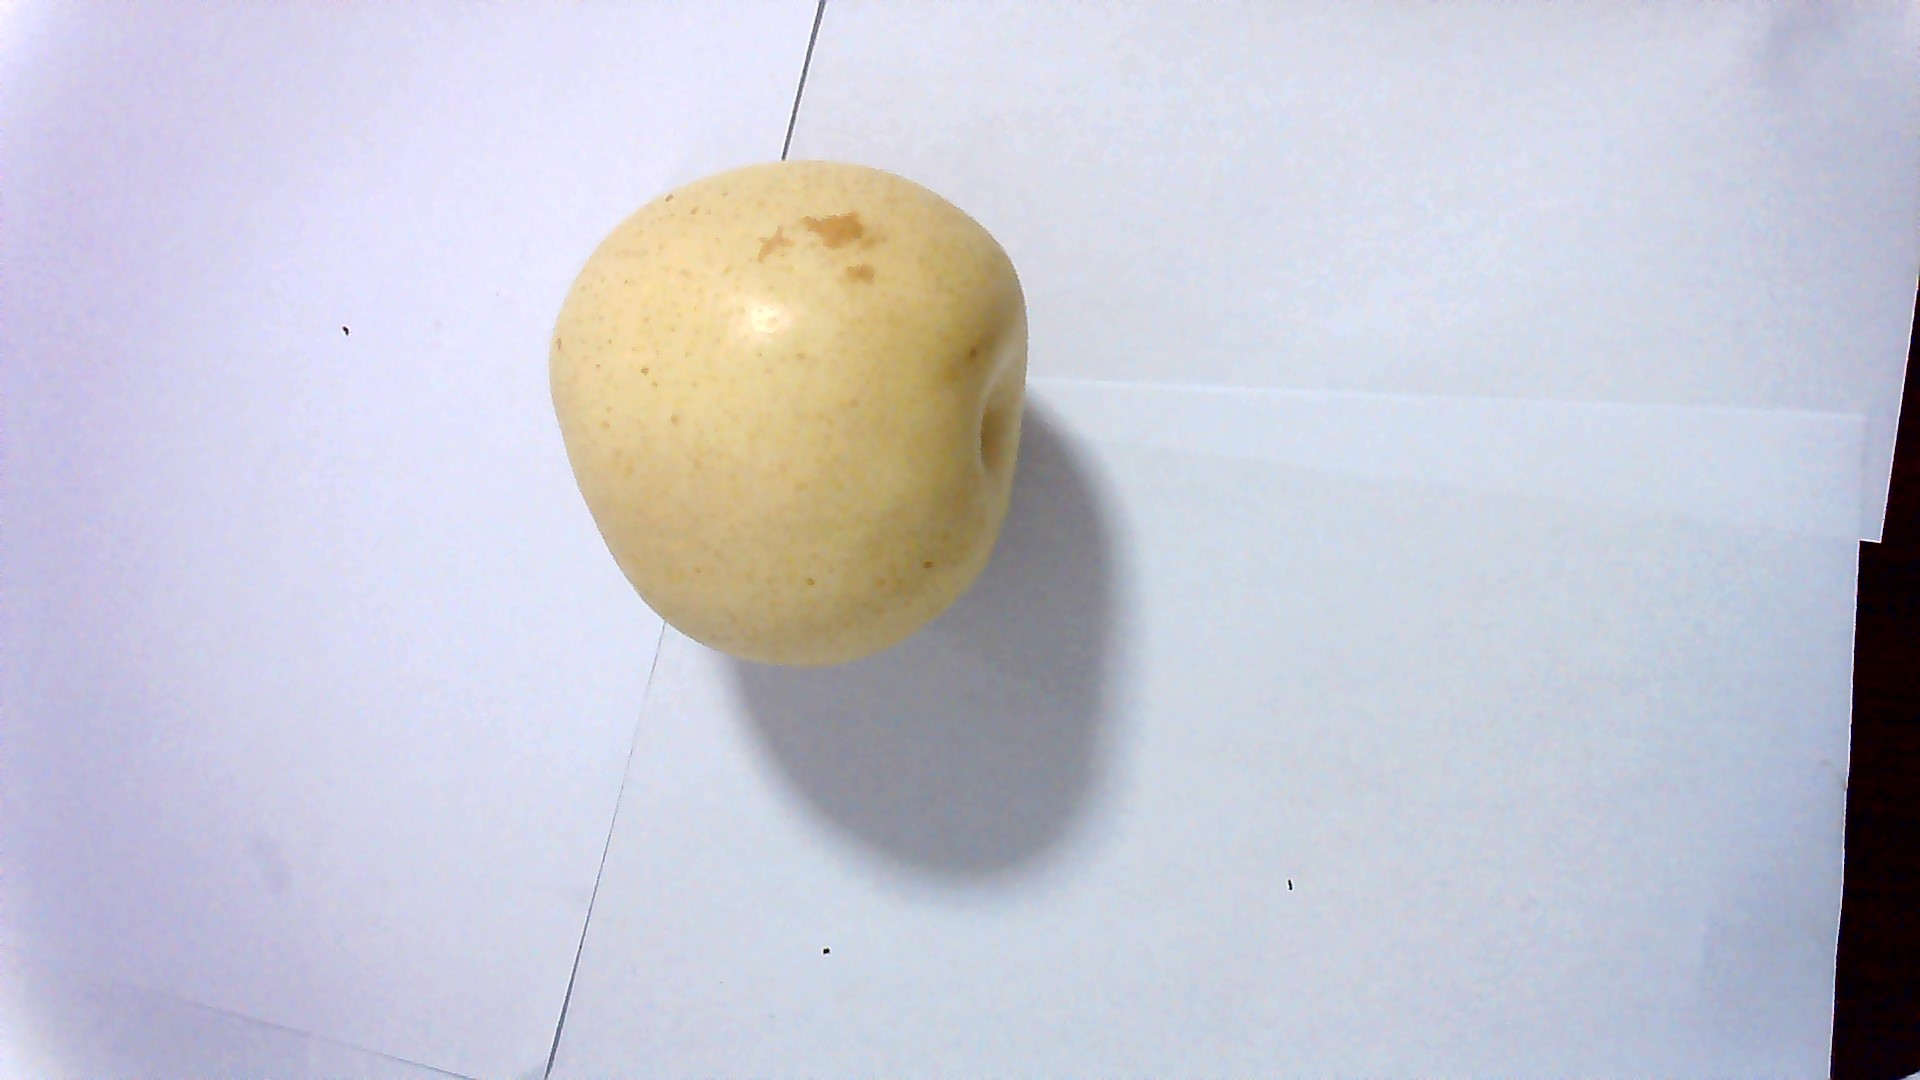pear: (567, 158, 1022, 665)
